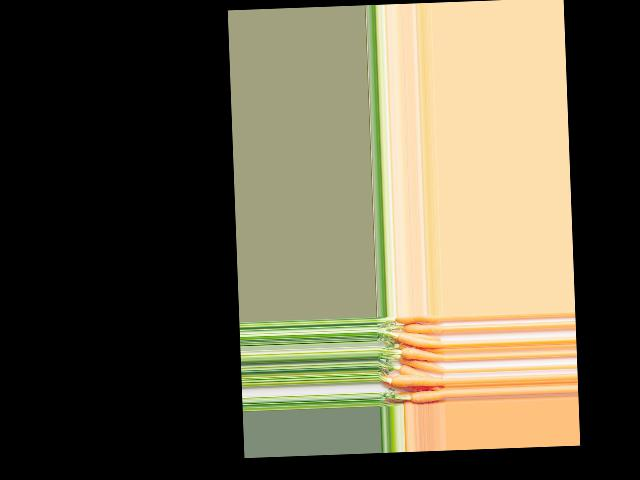carrot: (403, 390, 447, 405)
